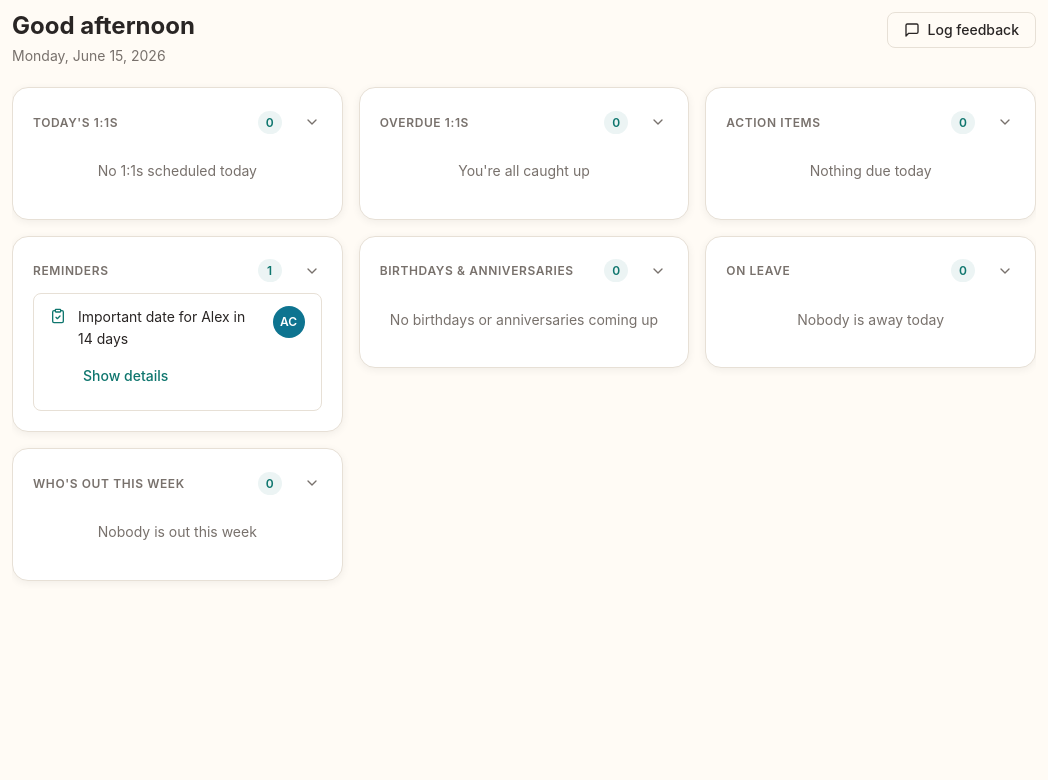
Scenario: date reminders on the dashboard › treats probation like visa: generic text, details on request, a different icon
Expected: the message shows "Important date for Alex in 14 days", [78,308,245,347]
Expected: the icon next to "Important date for Alex in 14 days" is shown, [50,308,66,324]
Click the button "Show details" at (126, 376), box [66,354,185,398]
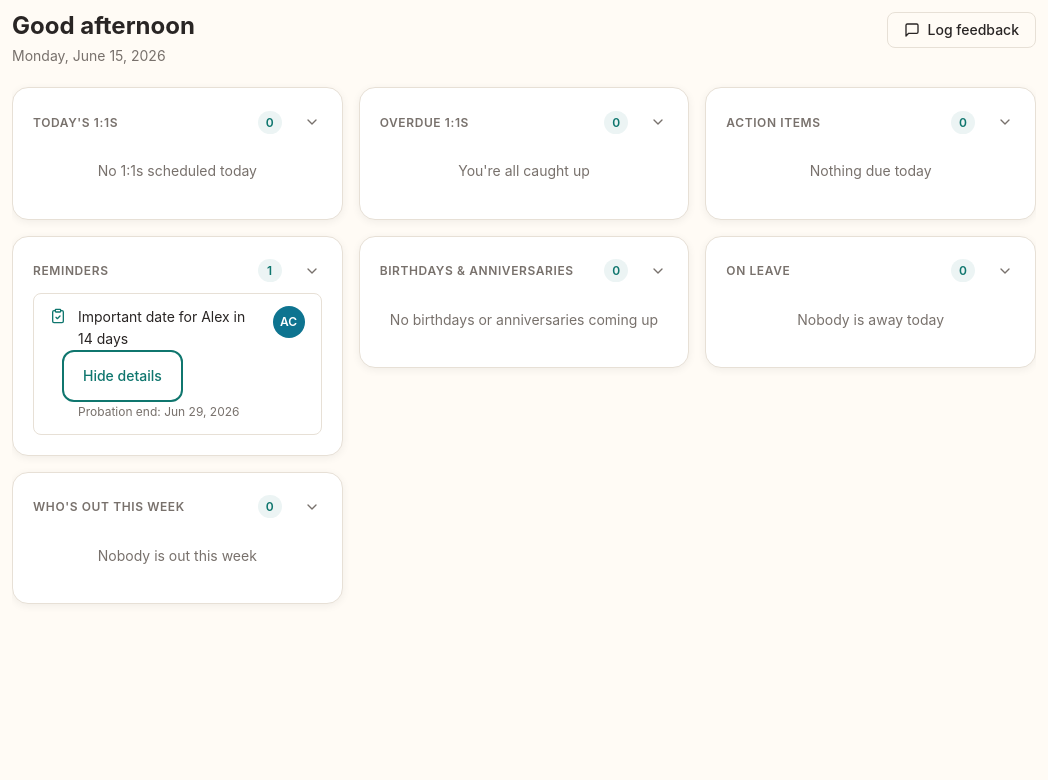
Expected: the text "Probation end: Jun 29, 2026" is shown, [78,402,261,422]
